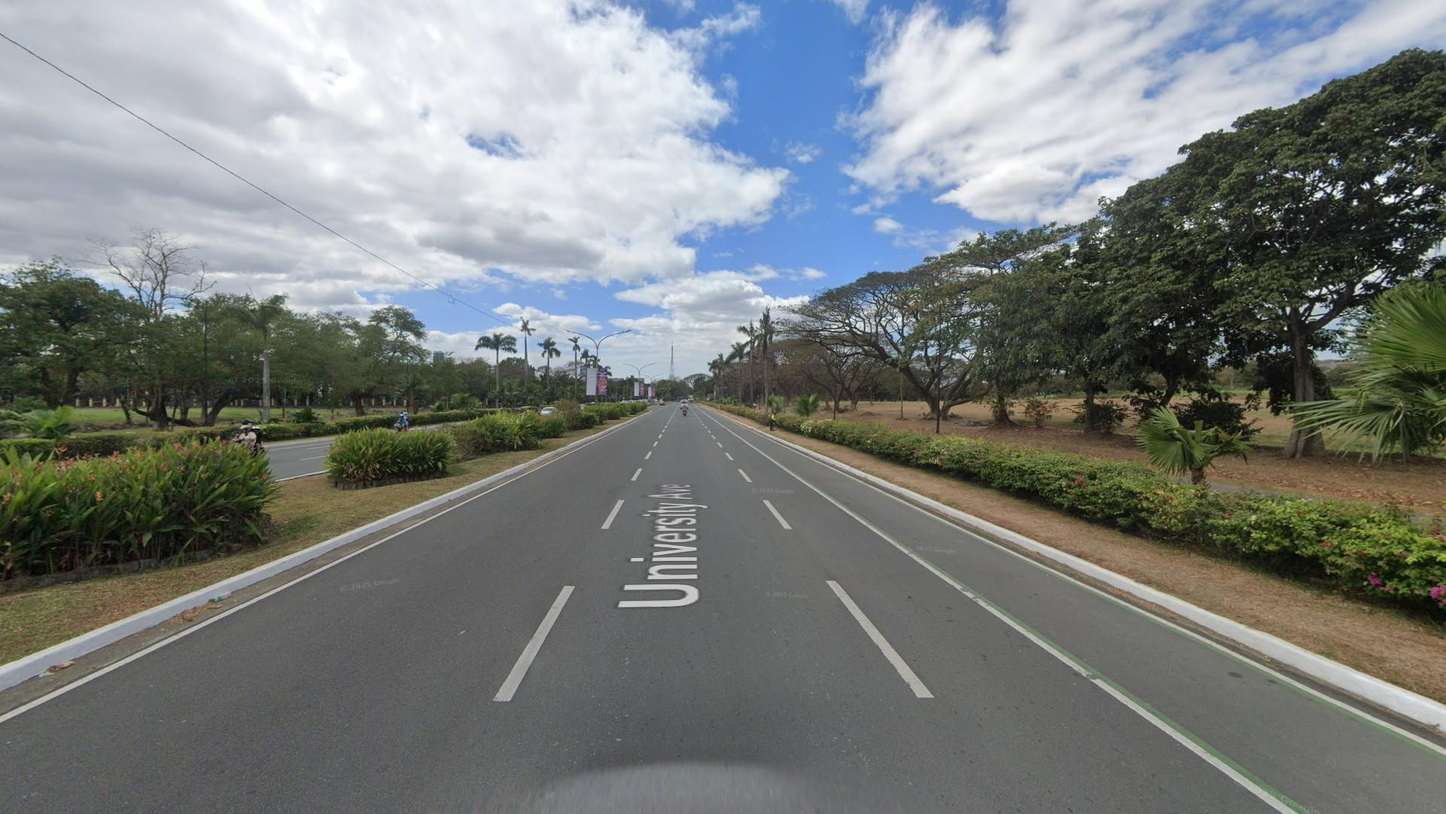pedestrian: (769, 412, 777, 432)
